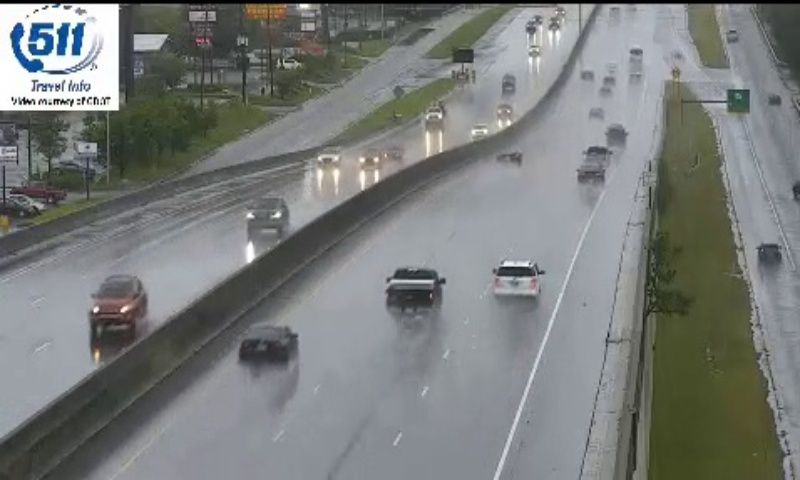car: (385, 268, 442, 310), (239, 325, 297, 361), (493, 259, 540, 300), (577, 161, 605, 182)
